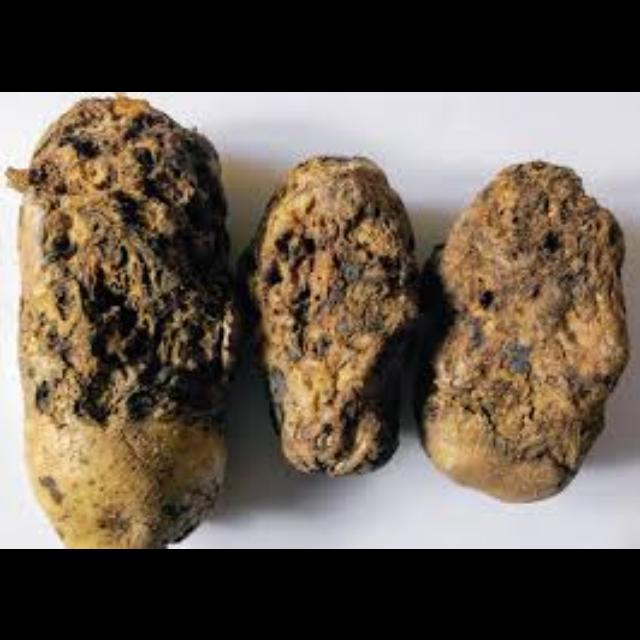Defected potato: (21, 101, 238, 544), (429, 145, 625, 515), (240, 137, 412, 486)
